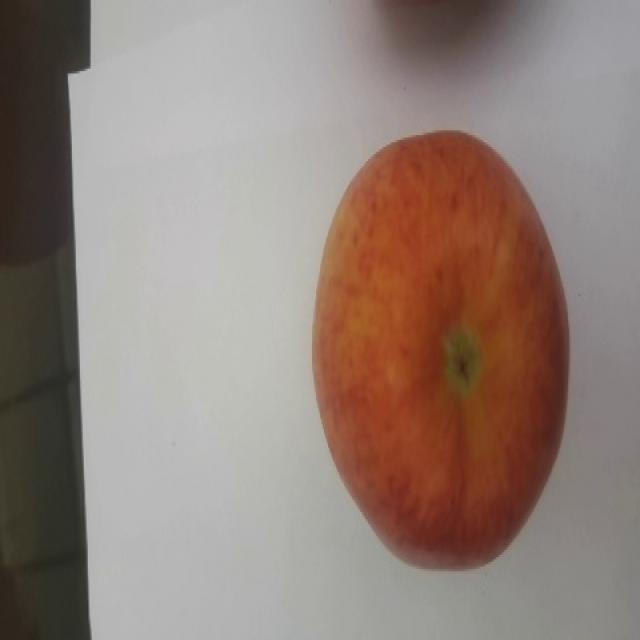Apple: (304, 124, 580, 574)
